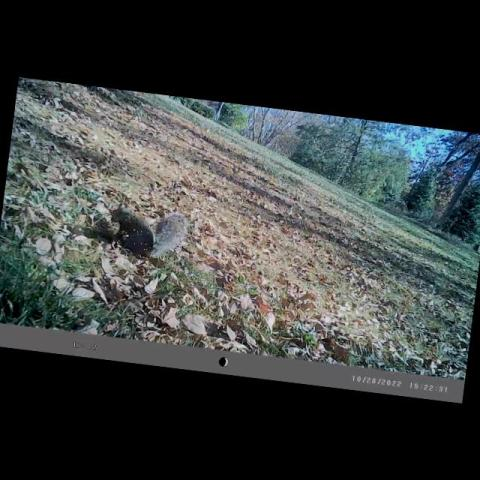small_animal: (108, 204, 187, 257)
